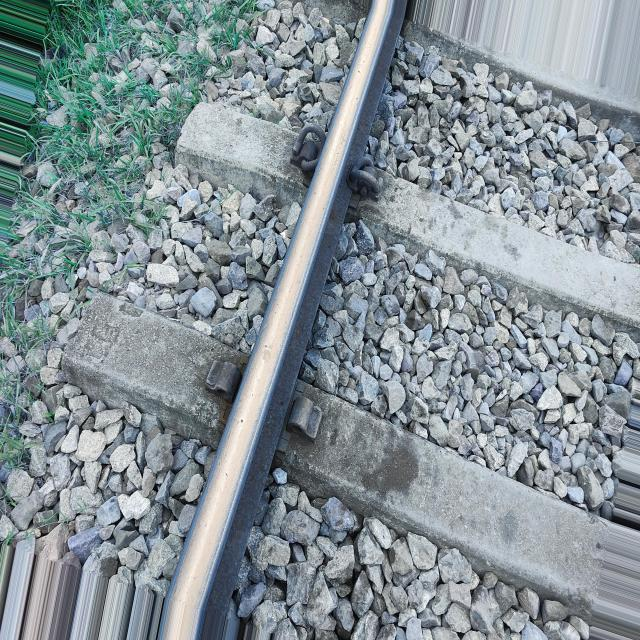Good Fasteners: (291, 123, 326, 172), (347, 155, 381, 197)
Missing Fastener: (287, 380, 323, 442), (204, 360, 242, 407)
